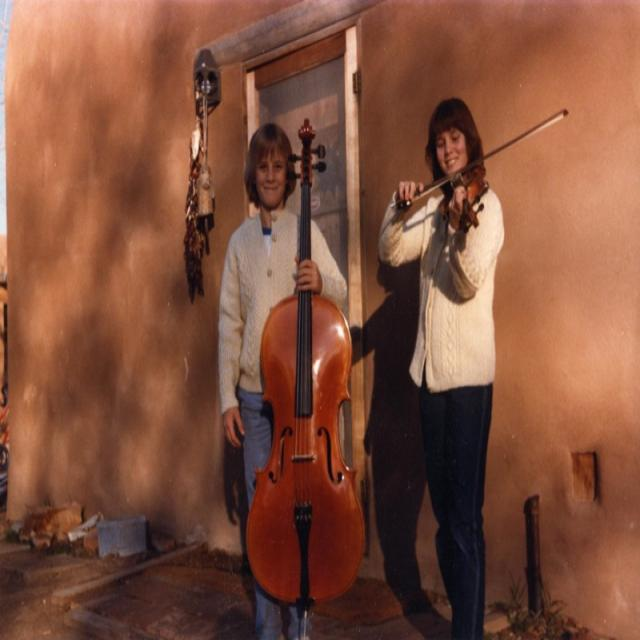cello: (244, 119, 369, 602)
violin: (440, 160, 490, 232)
